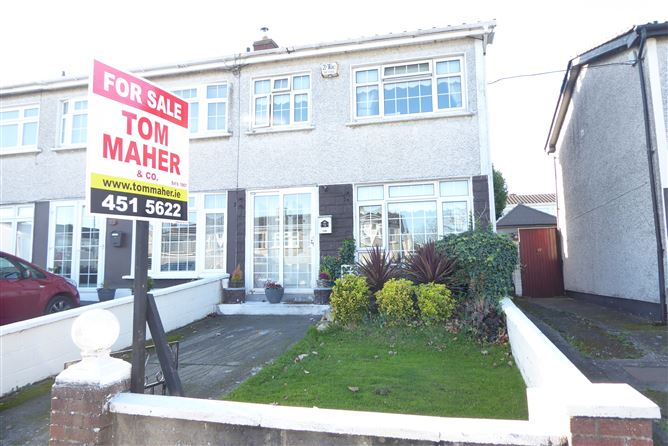property sign: (78, 44, 198, 237)
